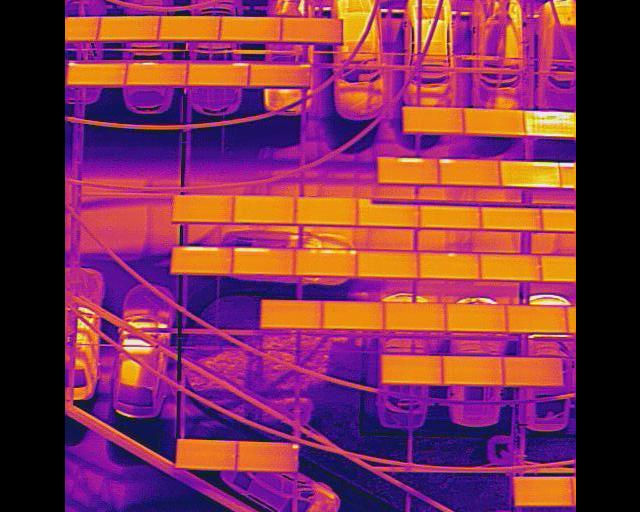Cell: (237, 442, 297, 472), (414, 253, 480, 280)
No-Anomaly: (383, 302, 446, 333), (175, 439, 236, 471), (260, 300, 321, 331), (512, 476, 573, 507), (380, 355, 441, 385), (441, 357, 504, 386), (320, 302, 383, 331), (232, 196, 295, 225), (478, 253, 541, 282), (293, 198, 358, 226), (172, 195, 233, 224), (505, 306, 568, 334), (461, 109, 524, 137), (218, 16, 282, 43), (445, 304, 506, 332), (355, 252, 418, 279), (355, 203, 421, 228), (280, 18, 341, 45), (501, 359, 562, 386), (157, 16, 220, 42), (417, 206, 482, 231), (478, 207, 542, 232), (402, 108, 464, 133), (246, 64, 309, 88), (96, 17, 159, 41), (124, 63, 186, 86), (65, 63, 125, 86)
Unclassified: (292, 249, 356, 278), (434, 159, 502, 186), (170, 247, 233, 276), (377, 157, 439, 185), (496, 161, 560, 188), (233, 248, 294, 276), (523, 110, 576, 138), (186, 63, 249, 86)
